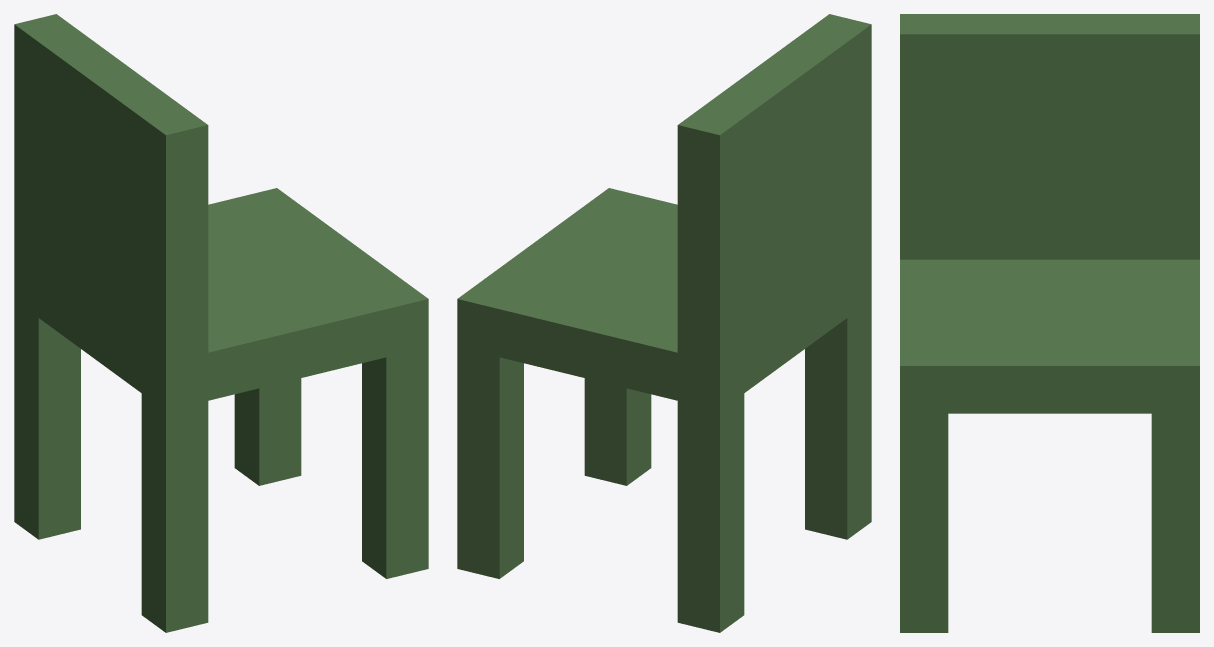
The model's file is wooden_chair-colonly.glb.
3 views of the same model, side by side, from view 1: azimuth 30°, elevation 25°; view 2: azimuth 150°, elevation 25°; view 3: azimuth 270°, elevation 25° (orthographic).
Parts seen in each view (by area): view 1: WoodenChair; view 2: WoodenChair; view 3: WoodenChair.
Boxes of the visible parts, x1,y1,x2,y2 form: WoodenChair: (14, 14, 428, 632); WoodenChair: (457, 14, 871, 632); WoodenChair: (900, 14, 1199, 632).
Size of what is drawn, in the model's own units: 1.25 by 2.26 by 1.25.
